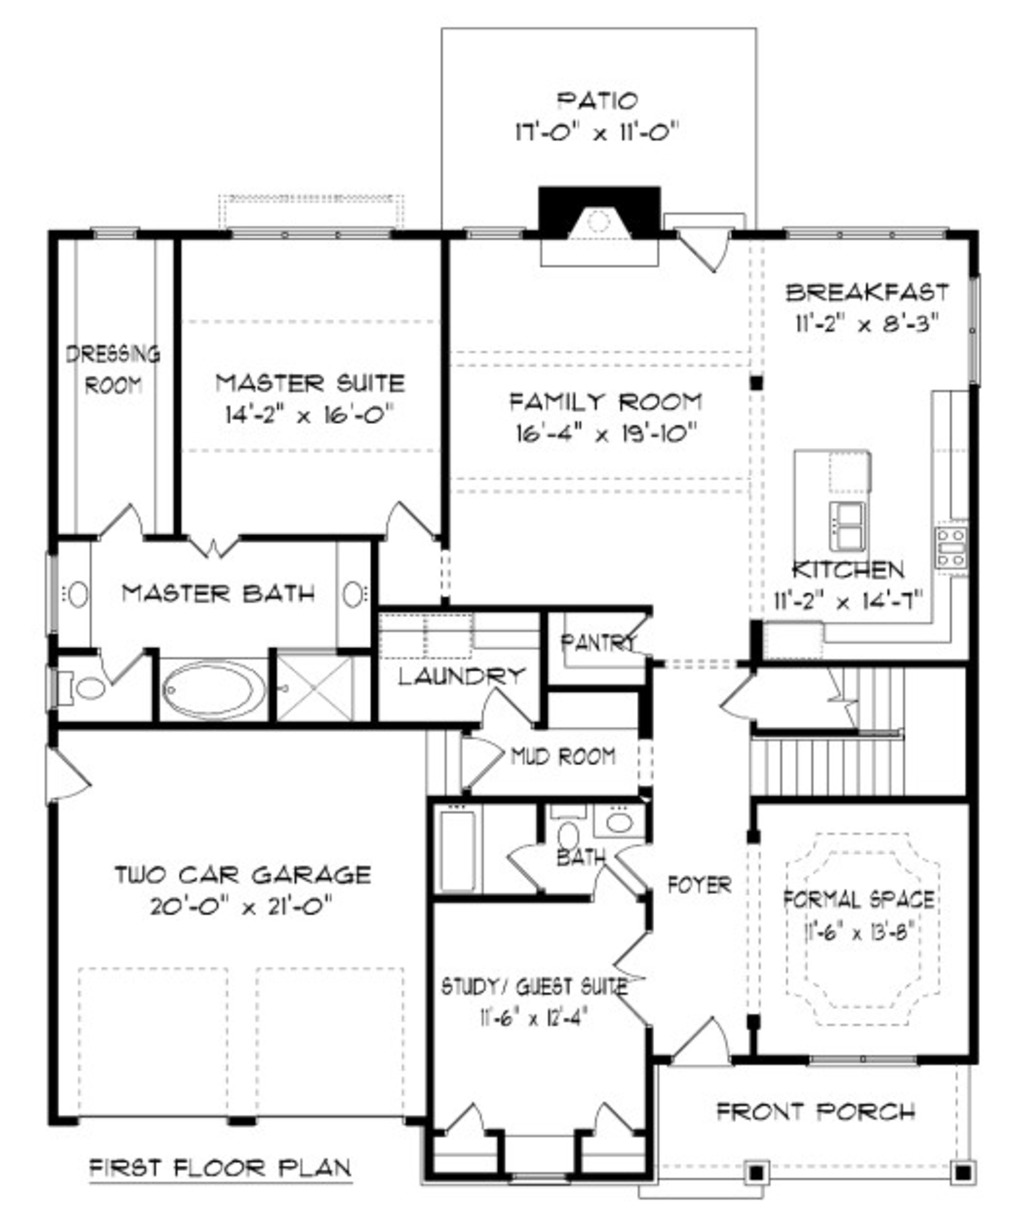door: (609, 927, 662, 1037), (35, 744, 103, 816), (369, 493, 447, 555), (669, 1012, 741, 1069), (94, 503, 171, 550), (496, 837, 550, 899), (181, 521, 252, 567), (611, 609, 662, 669), (718, 670, 765, 731), (477, 680, 535, 727), (579, 852, 626, 910), (452, 740, 501, 793), (99, 646, 145, 697), (439, 1097, 499, 1133), (630, 846, 671, 893), (590, 1101, 622, 1125)
large_sink: (41, 667, 109, 714), (539, 803, 586, 863)
small_sink: (52, 561, 98, 640), (333, 565, 379, 638), (586, 801, 664, 840)
stairs: (750, 657, 973, 795)
tub: (147, 653, 273, 721), (430, 797, 479, 899)
twin_sink: (820, 501, 881, 572)
window: (220, 203, 411, 255), (771, 206, 965, 248), (811, 1044, 918, 1070), (464, 218, 535, 253), (82, 224, 147, 252)
